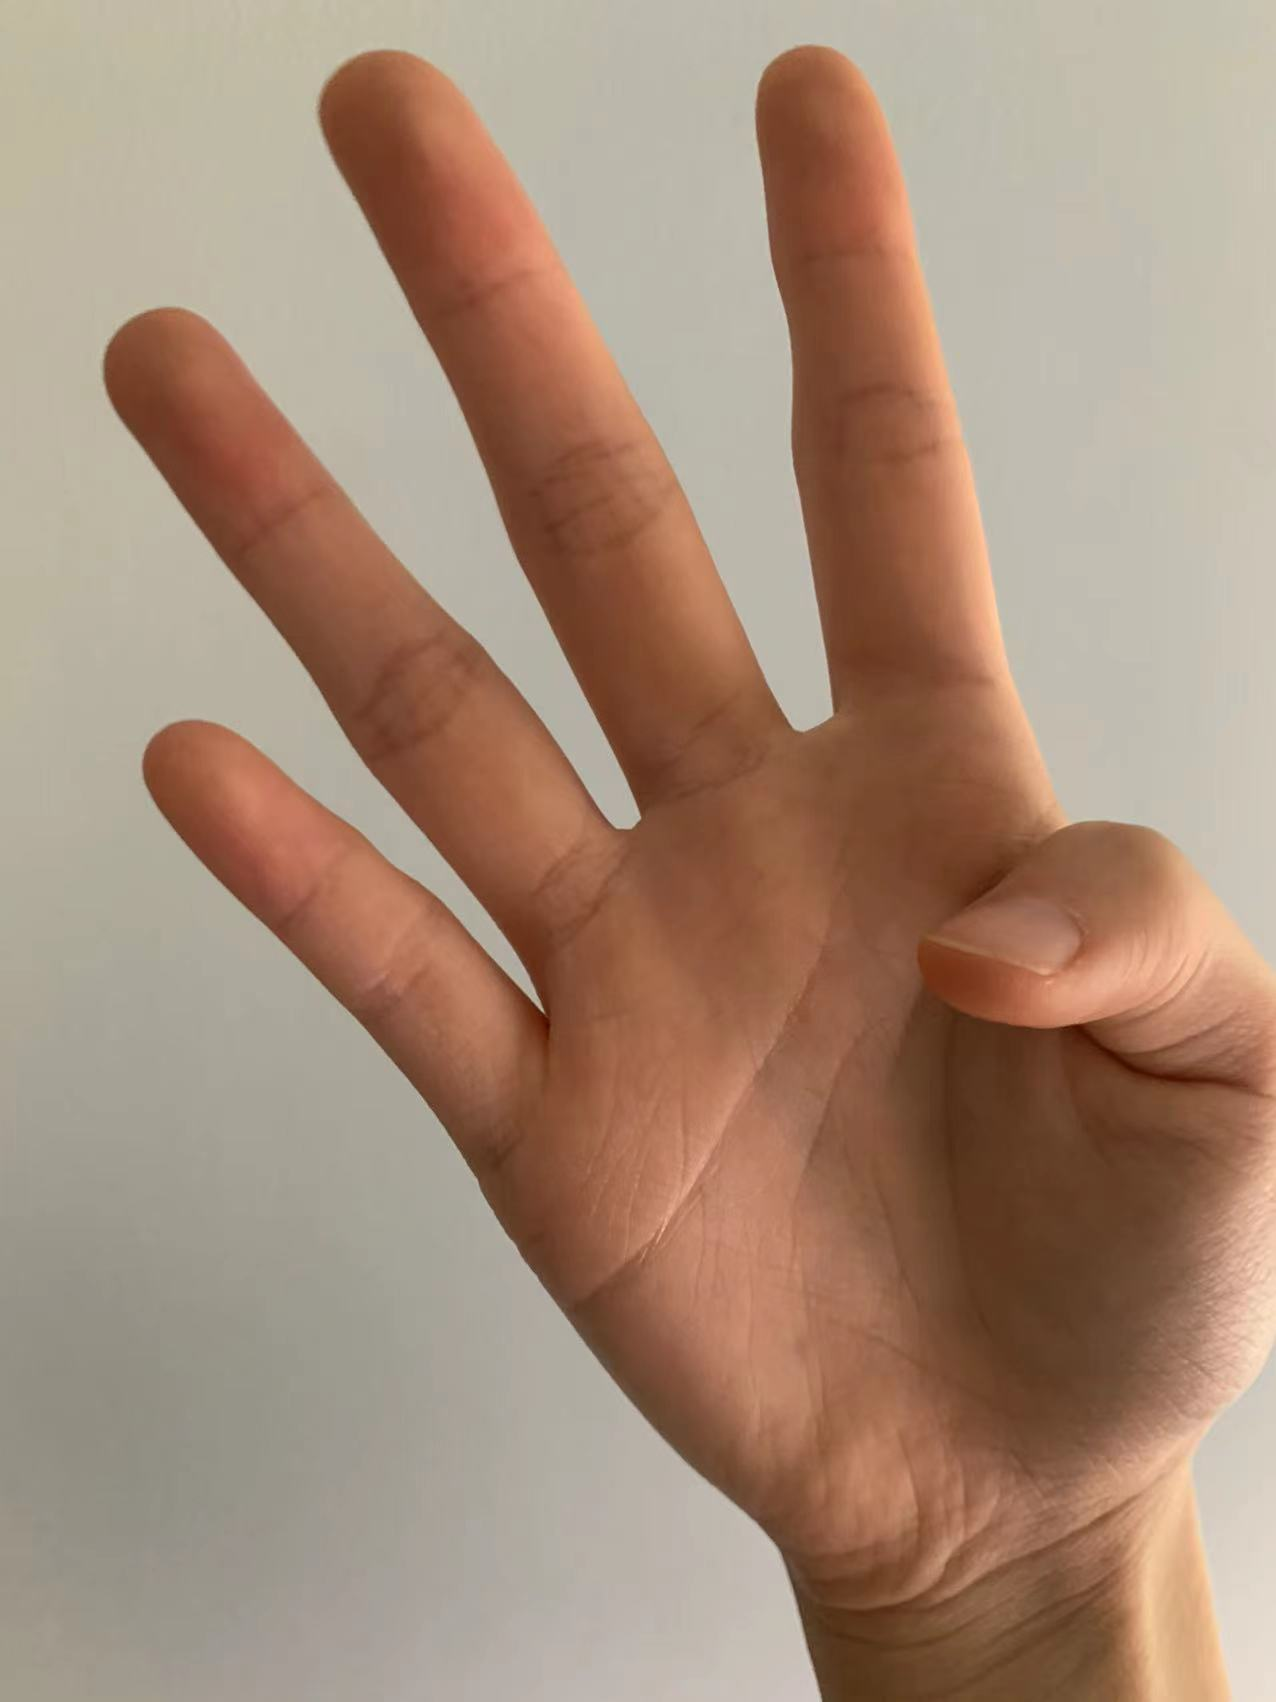right: (83, 38, 1276, 1584)
